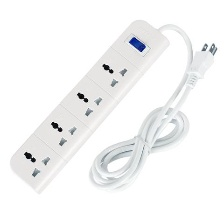three_eye_plug: (7, 15, 172, 198)
